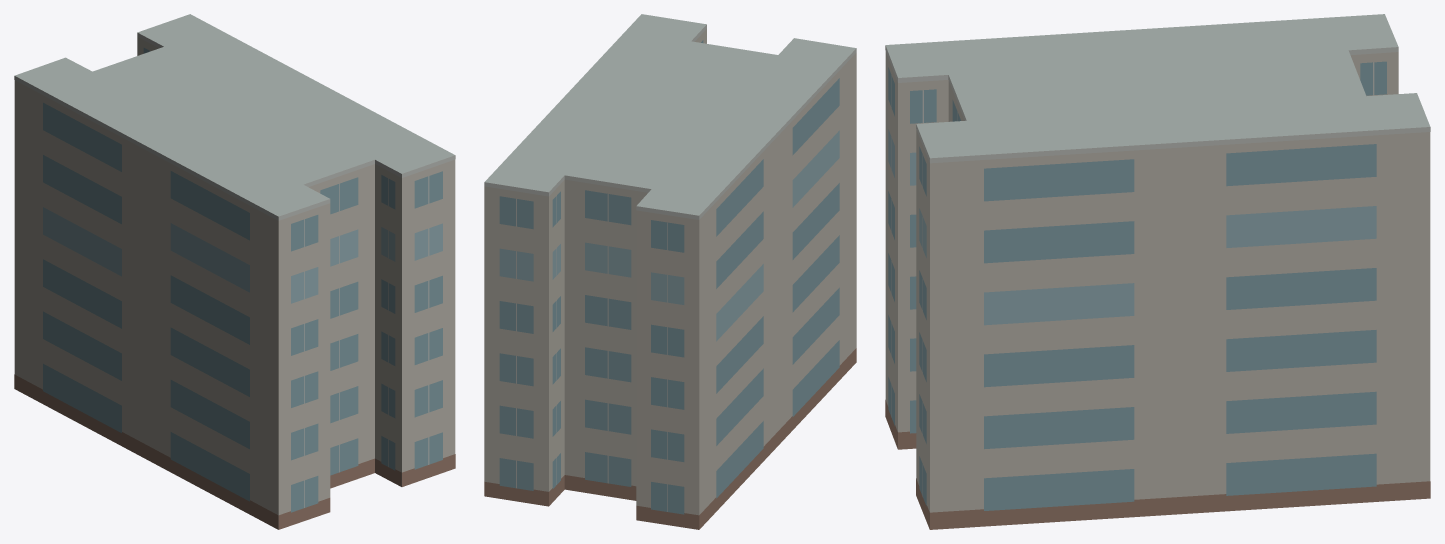
File: survey-upis-33041869.glb
3 renders of one model, left to right at view 1: azimuth 30°, elevation 25°; view 2: azimuth 150°, elevation 25°; view 3: azimuth 270°, elevation 25°, orthographic. The views are drawn at different scales.
Visible parts, largest first — view 1: survey-upis-33041869.tmp; view 2: survey-upis-33041869.tmp; view 3: survey-upis-33041869.tmp.
Part boxes in pixels (x1,y1,x2,y2): survey-upis-33041869.tmp: (14,14,455,529); survey-upis-33041869.tmp: (484,14,856,529); survey-upis-33041869.tmp: (885,14,1430,529).
Bounding box in the file's own units: 15.08 × 18.1 × 24.07.
